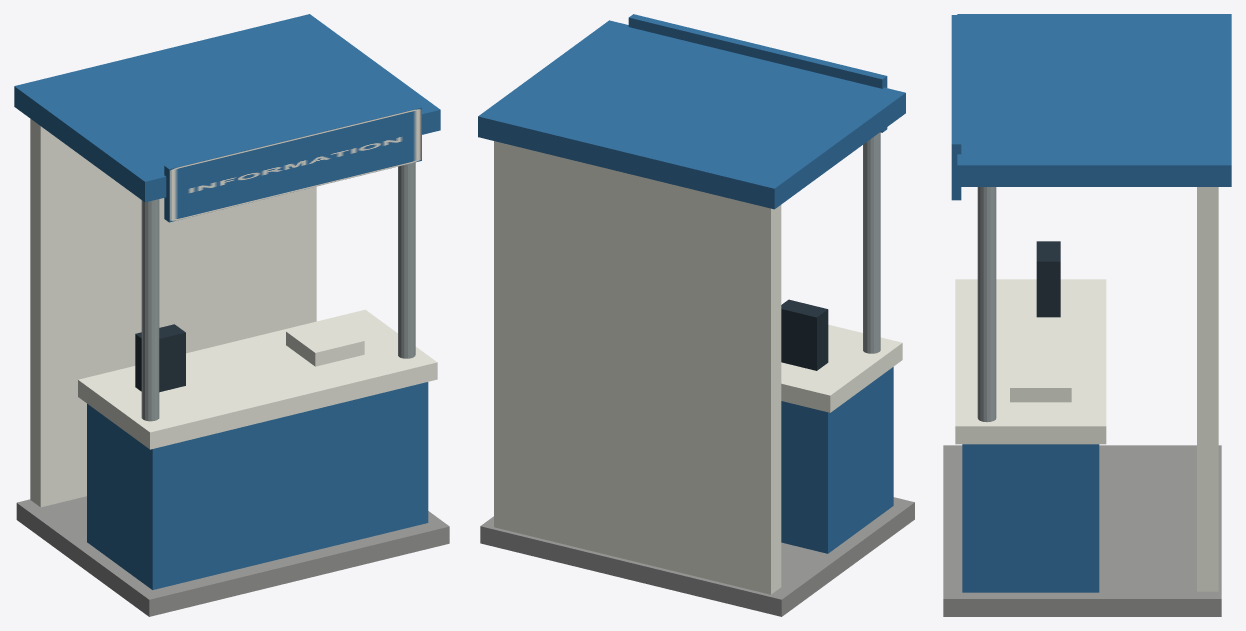
Rendered from scendance-plan-information-point-booth.glb.
3 views of the same model, side by side, from view 1: azimuth 30°, elevation 25°; view 2: azimuth 150°, elevation 25°; view 3: azimuth 270°, elevation 25° (orthographic). The views are drawn at different scales.
Bounding box in the file's own units: 1.83 × 2.56 × 1.45.
6 materials, 1 textured.
